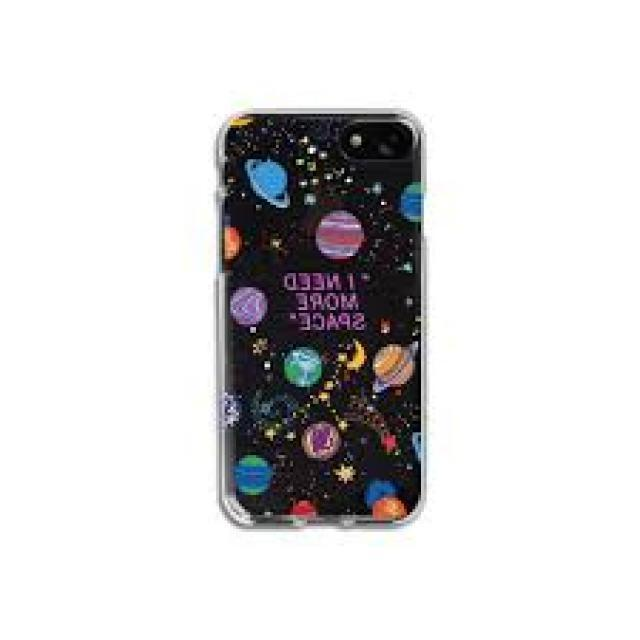mobile: (208, 98, 435, 539)
